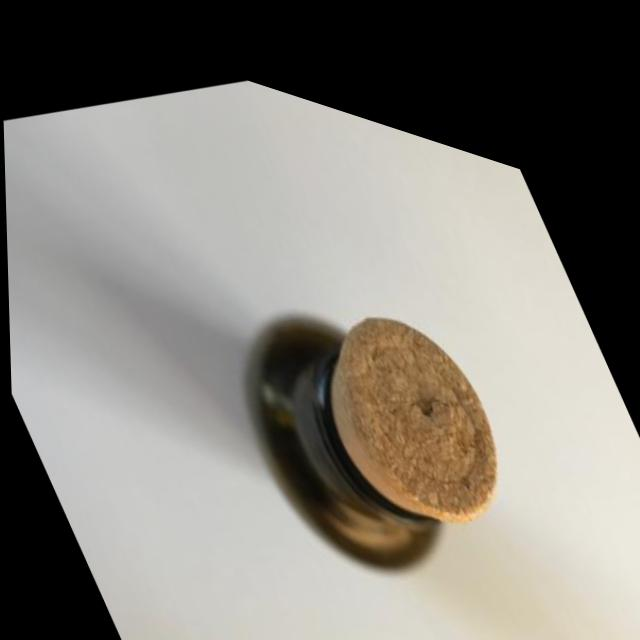glass: (40, 39, 620, 640)
